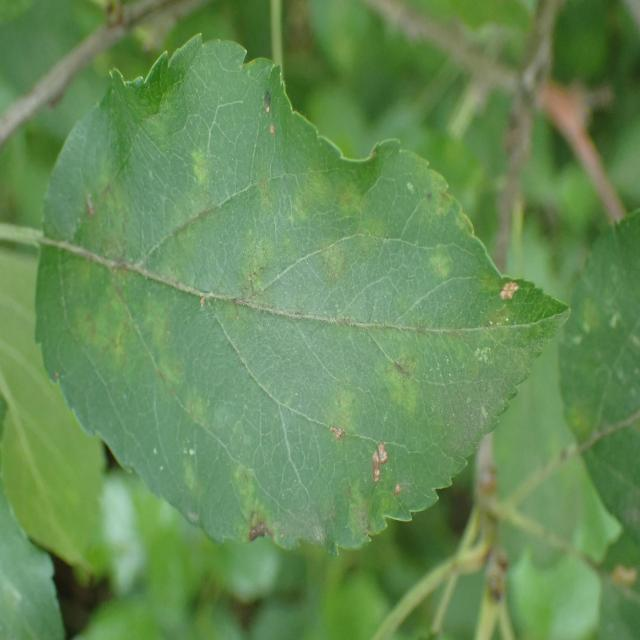scab: (56, 84, 503, 551)
